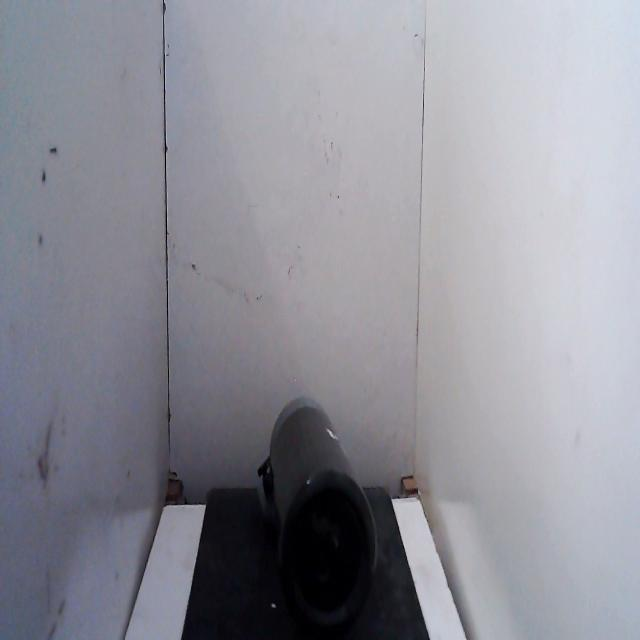plastic: (241, 378, 396, 640)
